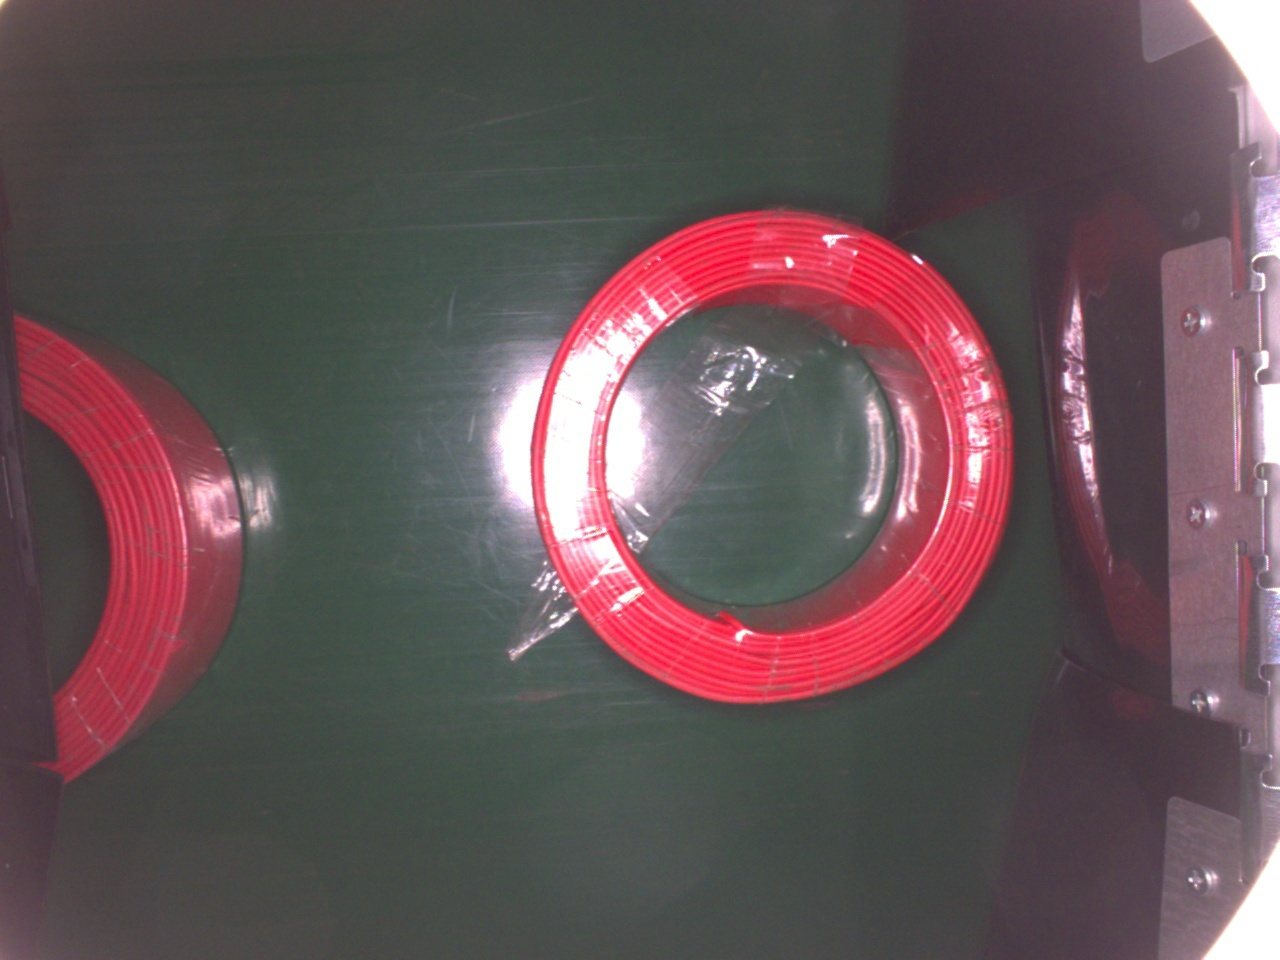red: (525, 205, 1014, 706), (11, 303, 249, 790)
